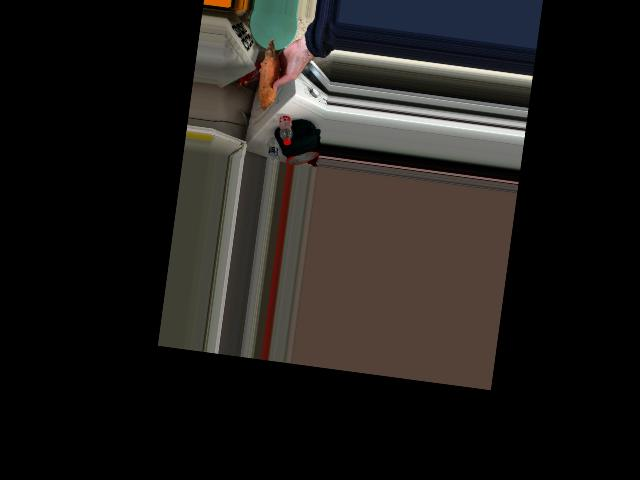sweet_potato: (257, 47, 281, 109)
